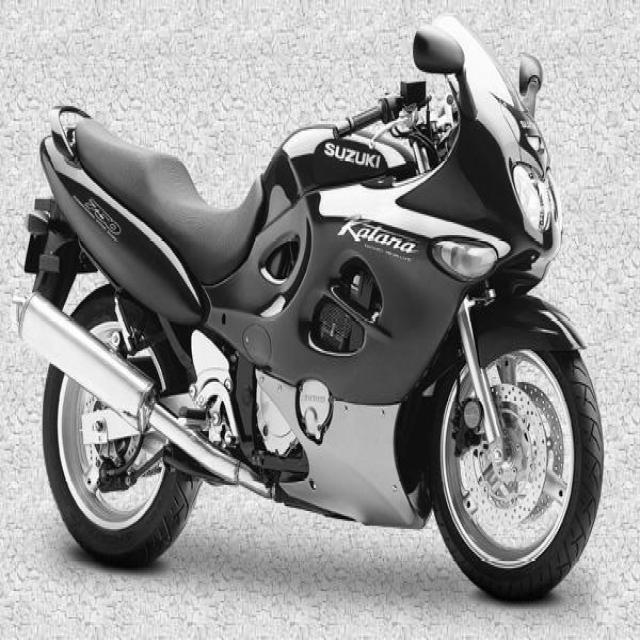Motorcycle: (14, 15, 605, 601)
